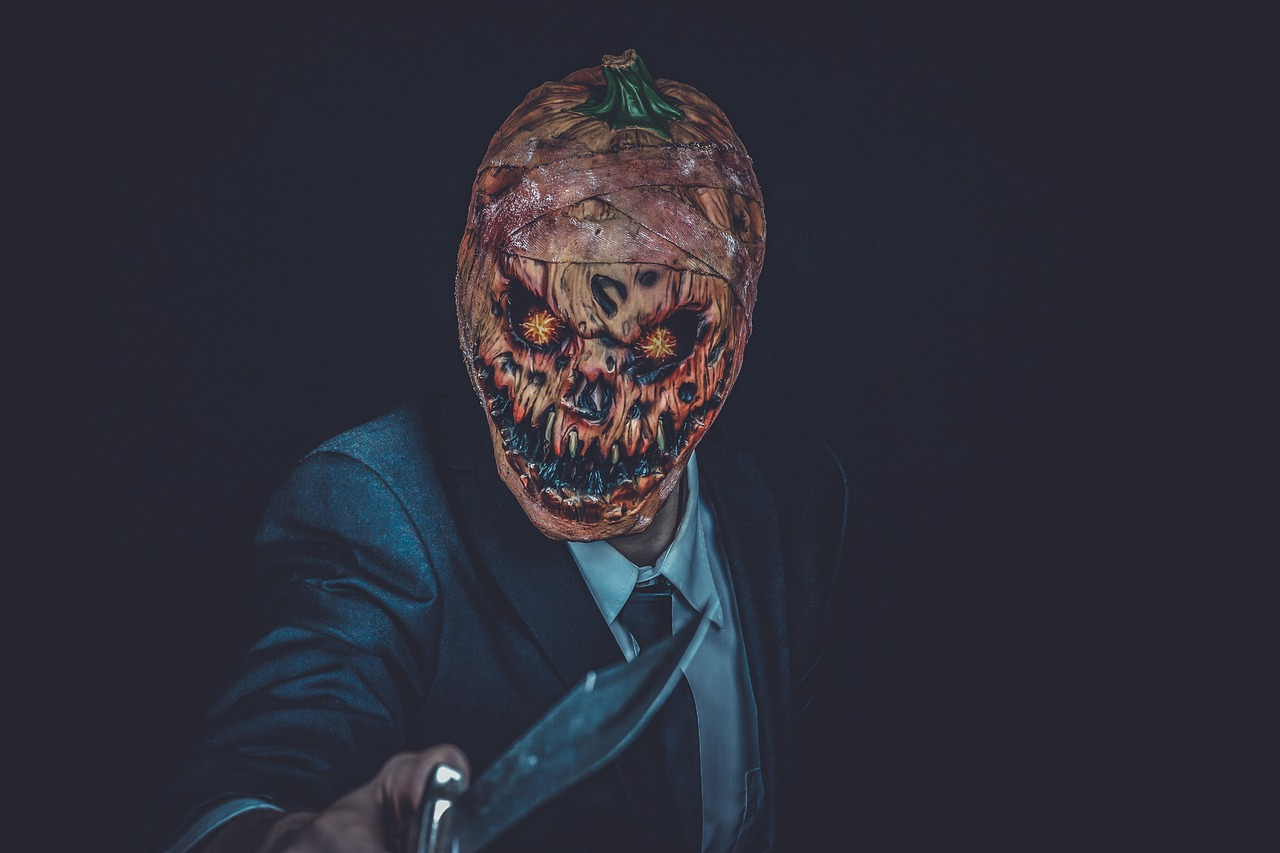knife: (348, 602, 740, 853)
